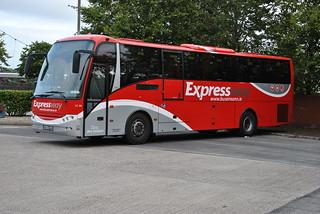bus: (30, 29, 293, 146)
